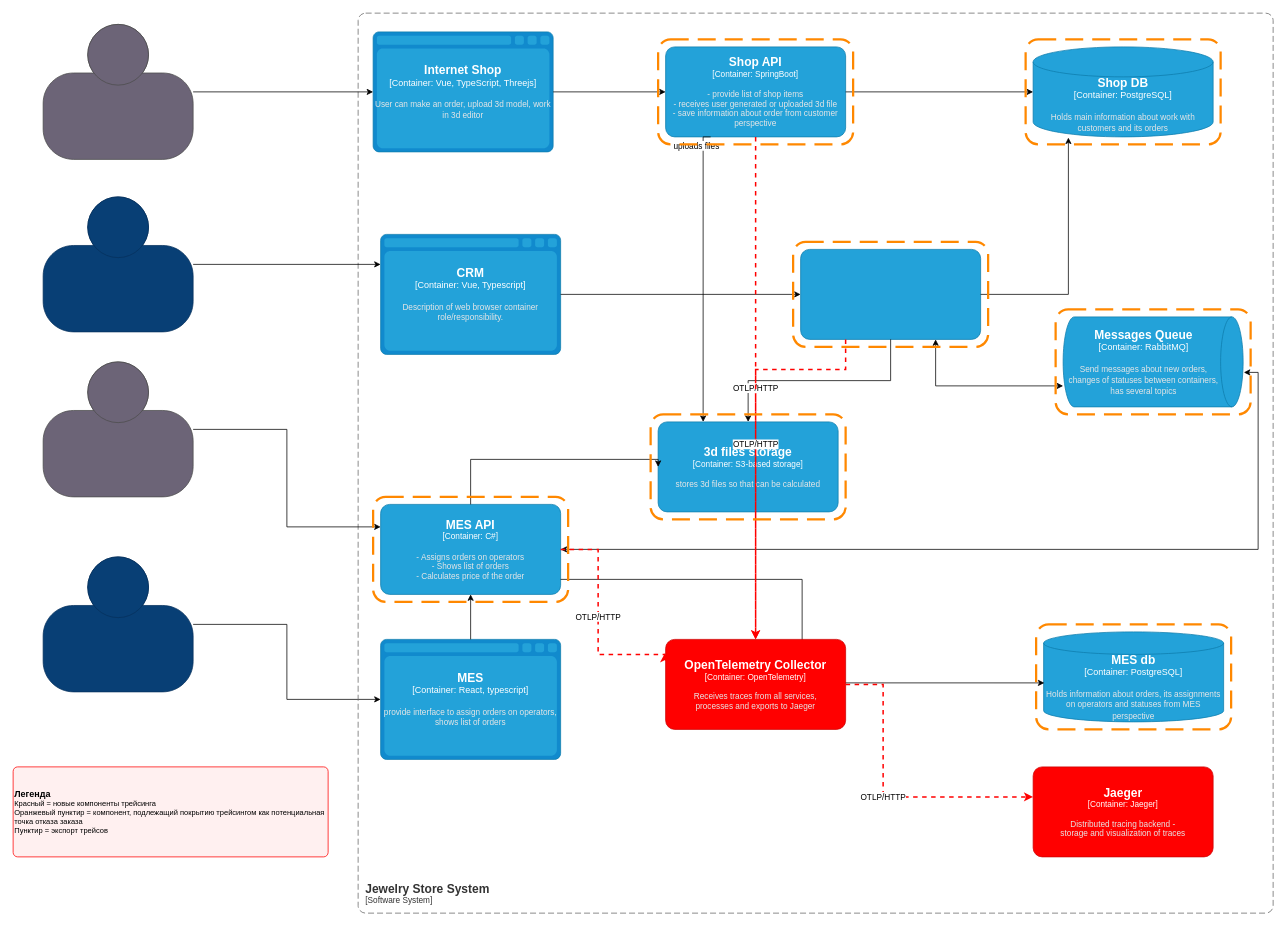
Some shapes in this 1286 by 926 pixel diagram are drawn without their labels. Each missing label, with the box of its shape:
API user [Person] Description of external person.: (42, 361, 193, 497)
CRM API [Container: SpringBoot] Description of container role/responsibility.: (800, 249, 981, 339)
Customer [Person] Description of external person.: (42, 24, 193, 159)
Operator [Person] Takes order in work, manufactures jewerly: (42, 556, 193, 692)
Seller [Person] Operates with order, confirms manufacturing for the user: (42, 196, 193, 332)
